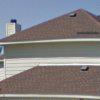Chimney: (4, 16, 25, 37)
